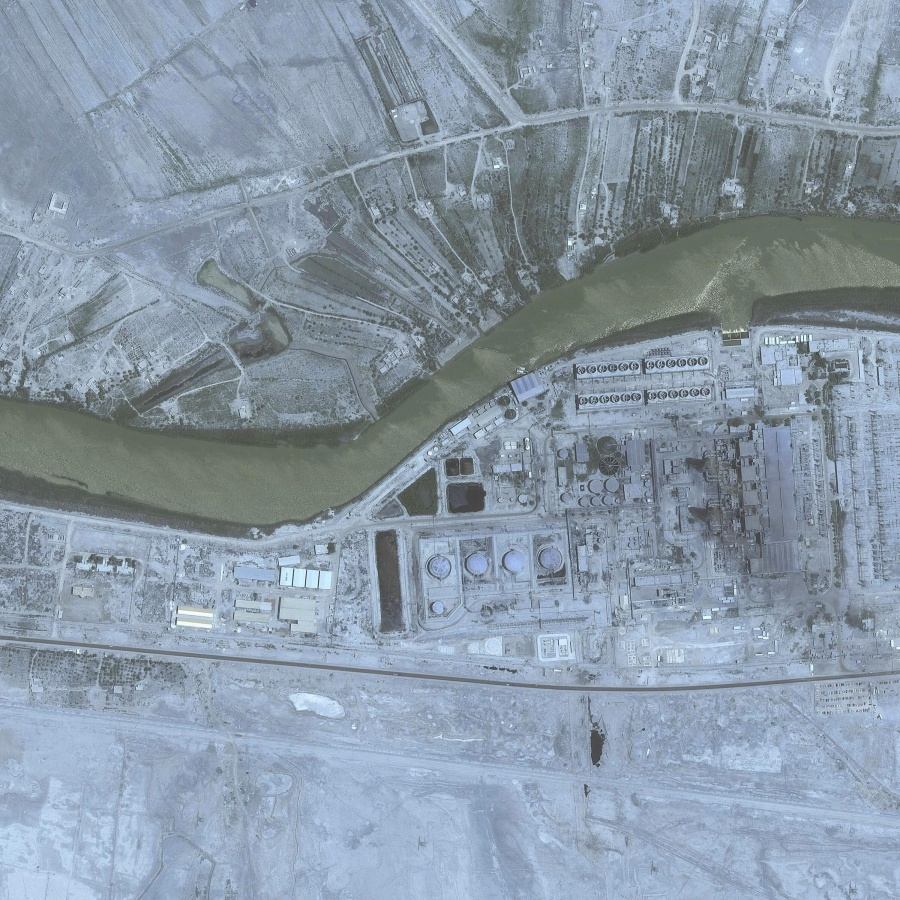PowerPlant: (352, 350, 852, 649)
